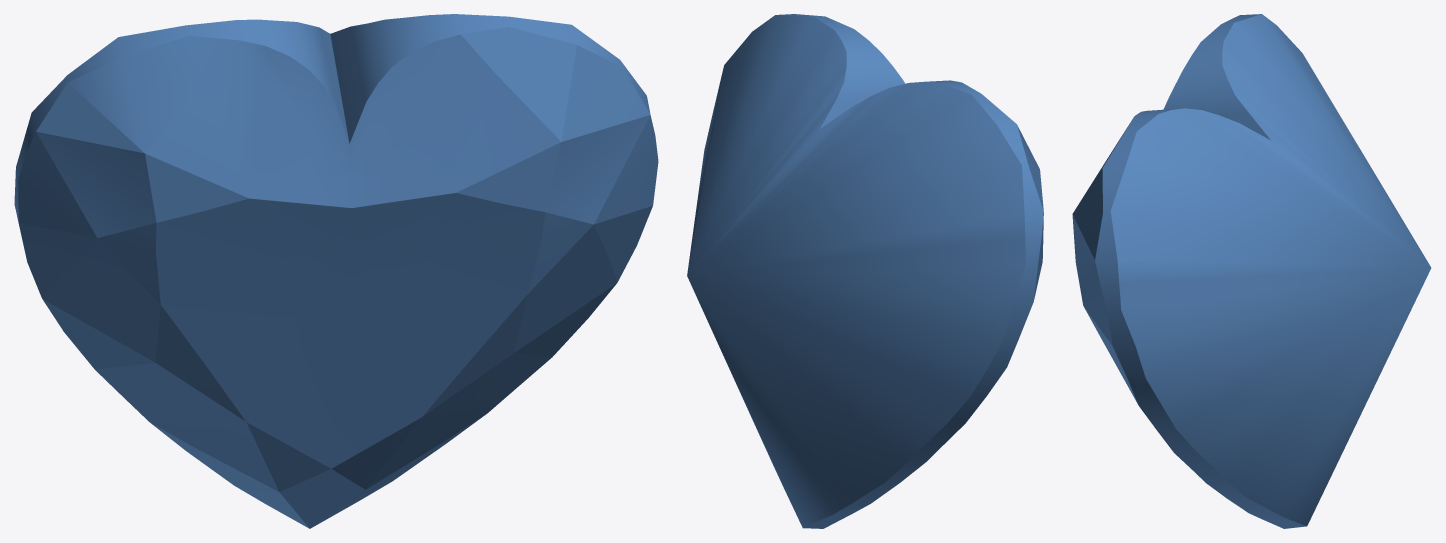
File: BL2_8shapes_heart_Classic_Stone.001 3.glb
3 views of the same model, side by side, from view 1: azimuth 30°, elevation 25°; view 2: azimuth 150°, elevation 25°; view 3: azimuth 270°, elevation 25° (orthographic). The views are drawn at different scales.
Parts seen in each view (by area): view 1: BL2_8shapes_heart_Classic_Stone.001; view 2: BL2_8shapes_heart_Classic_Stone.001; view 3: BL2_8shapes_heart_Classic_Stone.001.
Part boxes in pixels (<box>): BL2_8shapes_heart_Classic_Stone.001: <box>14,14,658,528</box>; BL2_8shapes_heart_Classic_Stone.001: <box>687,14,1043,528</box>; BL2_8shapes_heart_Classic_Stone.001: <box>1072,14,1431,528</box>.
Bounding box in the file's own units: 0.4102 × 0.4203 × 0.3067.
